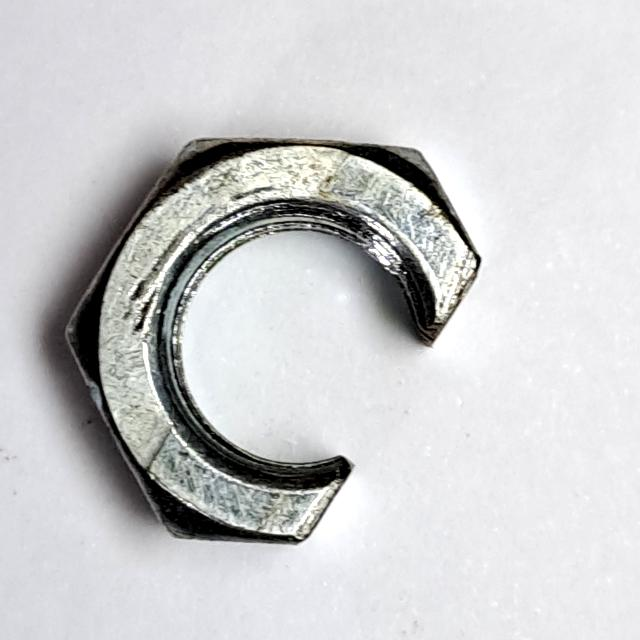Fracture: (53, 119, 499, 559)
